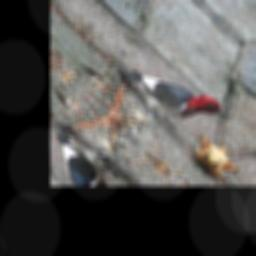Woodpecker: (100, 33, 240, 163)
